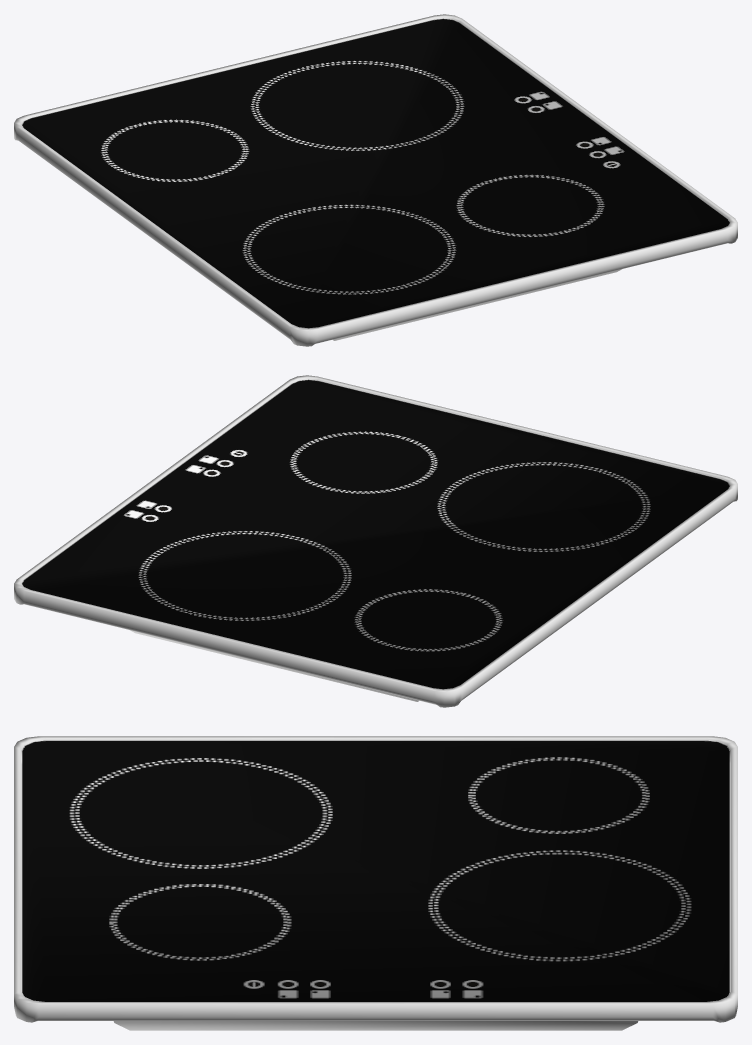
The model's file is Stove.fbx.
3 views of the same model, one above another, from view 1: azimuth 30°, elevation 25°; view 2: azimuth 150°, elevation 25°; view 3: azimuth 270°, elevation 25° (orthographic). The views are drawn at different scales.
Visible parts, largest first — view 1: Stove; view 2: Stove; view 3: Stove.
Boxes of the visible parts, box(x1,y1,x2,y2) form: Stove: box(14, 14, 737, 346); Stove: box(14, 375, 737, 707); Stove: box(14, 736, 737, 1030).
Bounding box in the file's own units: 485 × 67.84 × 554.
